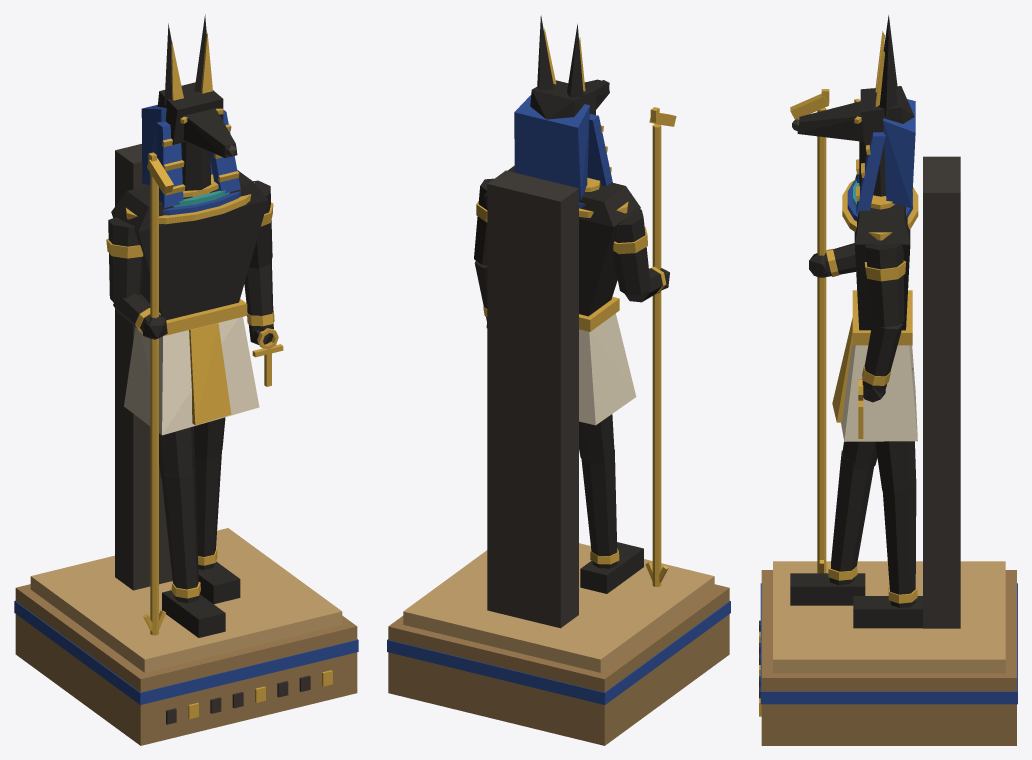
File: desert_anubis_statue.glb
3 renders of one model, left to right at view 1: azimuth 30°, elevation 25°; view 2: azimuth 150°, elevation 25°; view 3: azimuth 270°, elevation 25°, orthographic. The views are drawn at different scales.
Parts seen in each view (by area): view 1: desert_anubis_statue; view 2: desert_anubis_statue; view 3: desert_anubis_statue.
Boxes of the visible parts, x1,y1,x2,y2 form: desert_anubis_statue: (14, 14, 358, 745); desert_anubis_statue: (387, 15, 730, 745); desert_anubis_statue: (759, 15, 1017, 745).
Bounding box in the file's own units: 3.42 × 9.83 × 3.45.
